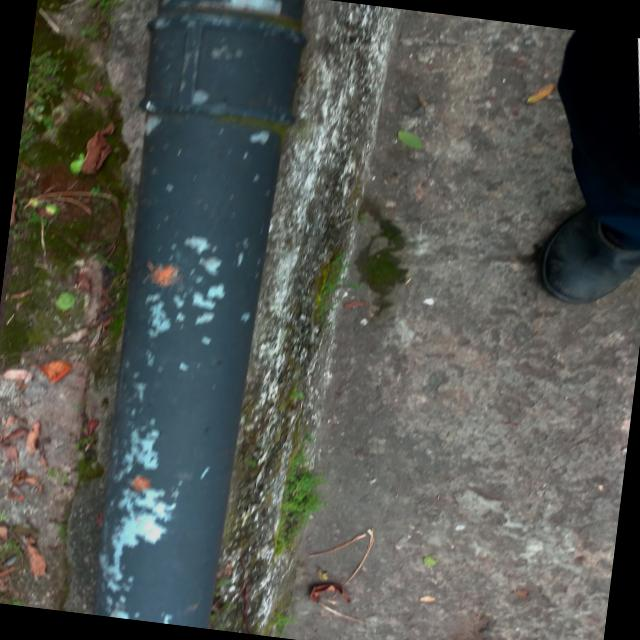gas: (81, 0, 310, 631)
